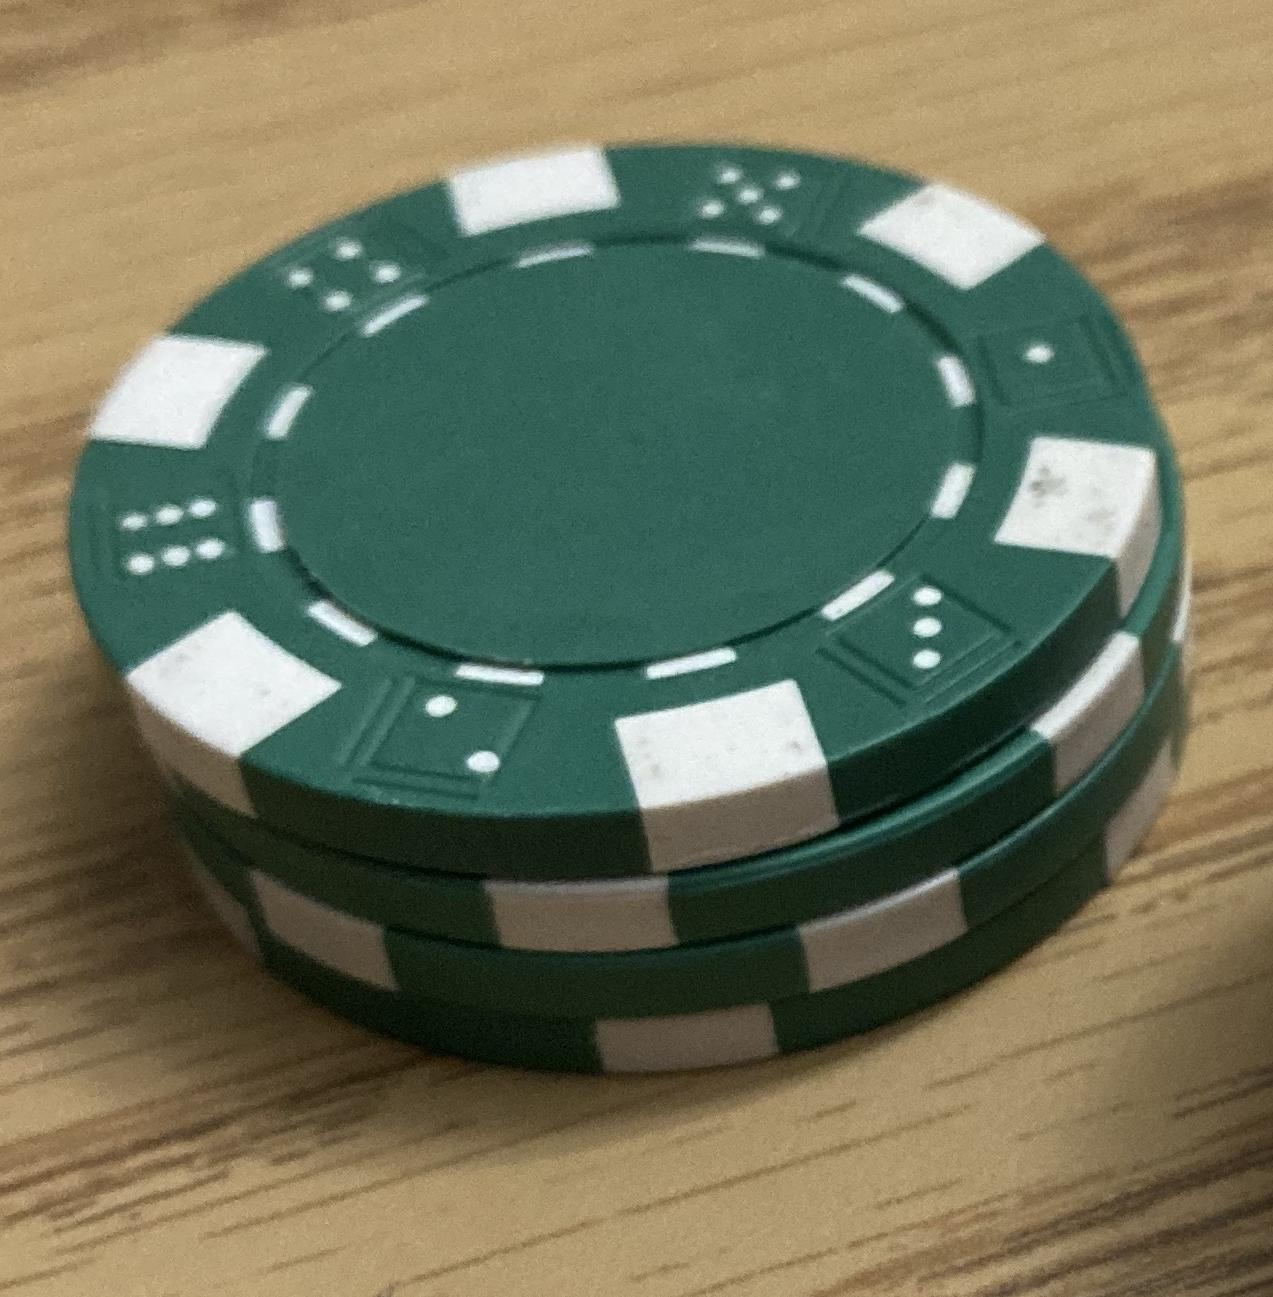Chip: (1, 1, 1273, 1297)
